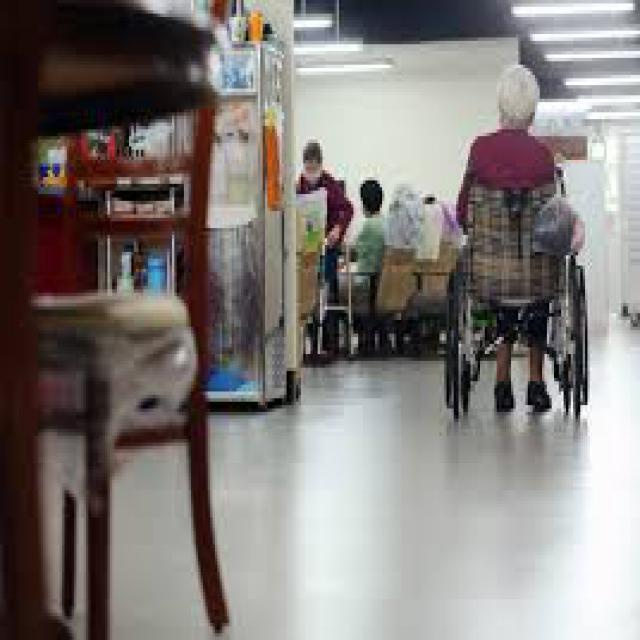wheelchairs: (413, 150, 604, 432)
